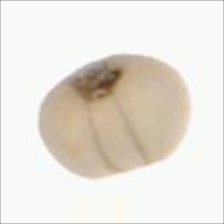L5: (85, 96, 151, 172), (64, 60, 126, 103)
L6: (37, 54, 191, 178)
